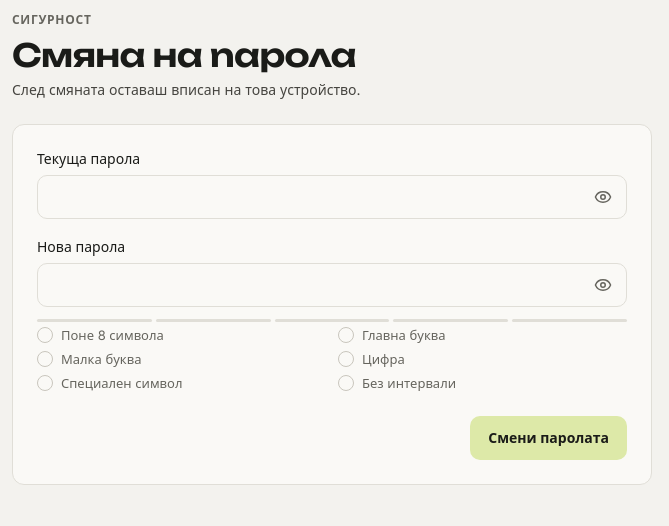
Test: ChangePasswordPage › shows a wrong current password (422) under its field and keeps the session
Type "Wrong1!x" into the password field labelled "Текуща парола". click: (332, 197)
box: top-left (37, 175), bottom-right (627, 219)
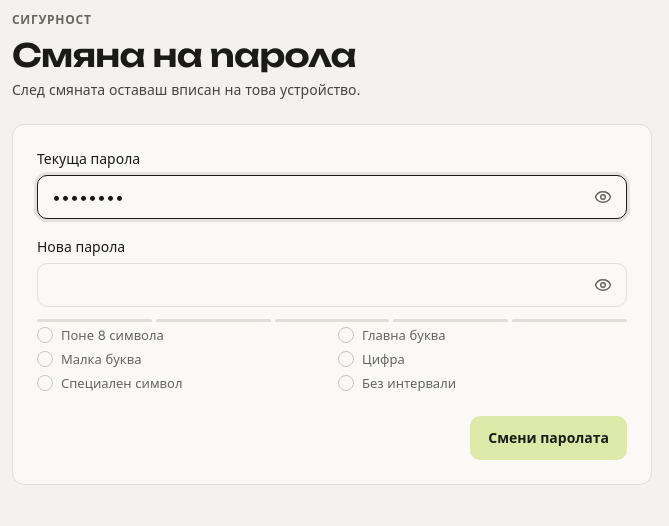
Type "Parola2!" into the password field labelled "Нова парола". click: (332, 285)
box: top-left (37, 263), bottom-right (627, 307)
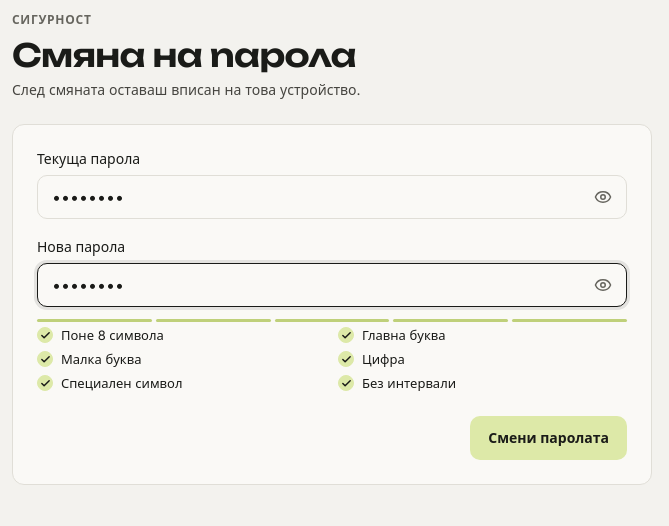
Click the button "Смени паролата". click: (549, 438)
box: top-left (470, 416), bottom-right (627, 460)
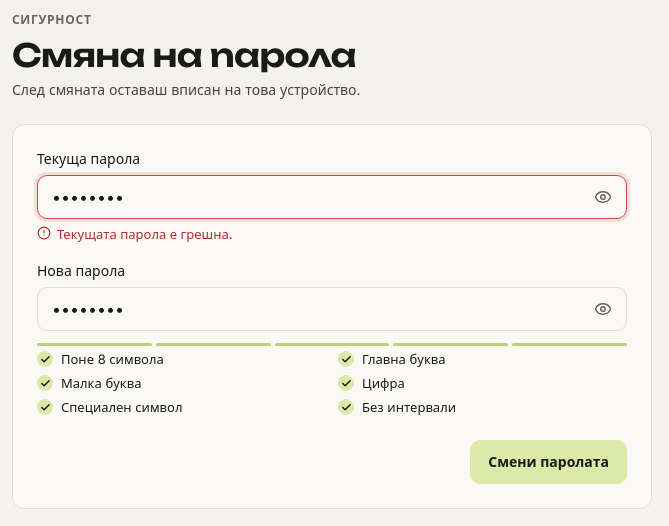
Expected: the text "Текущата парола е грешна." is shown, top-left (37, 226), bottom-right (233, 242)
